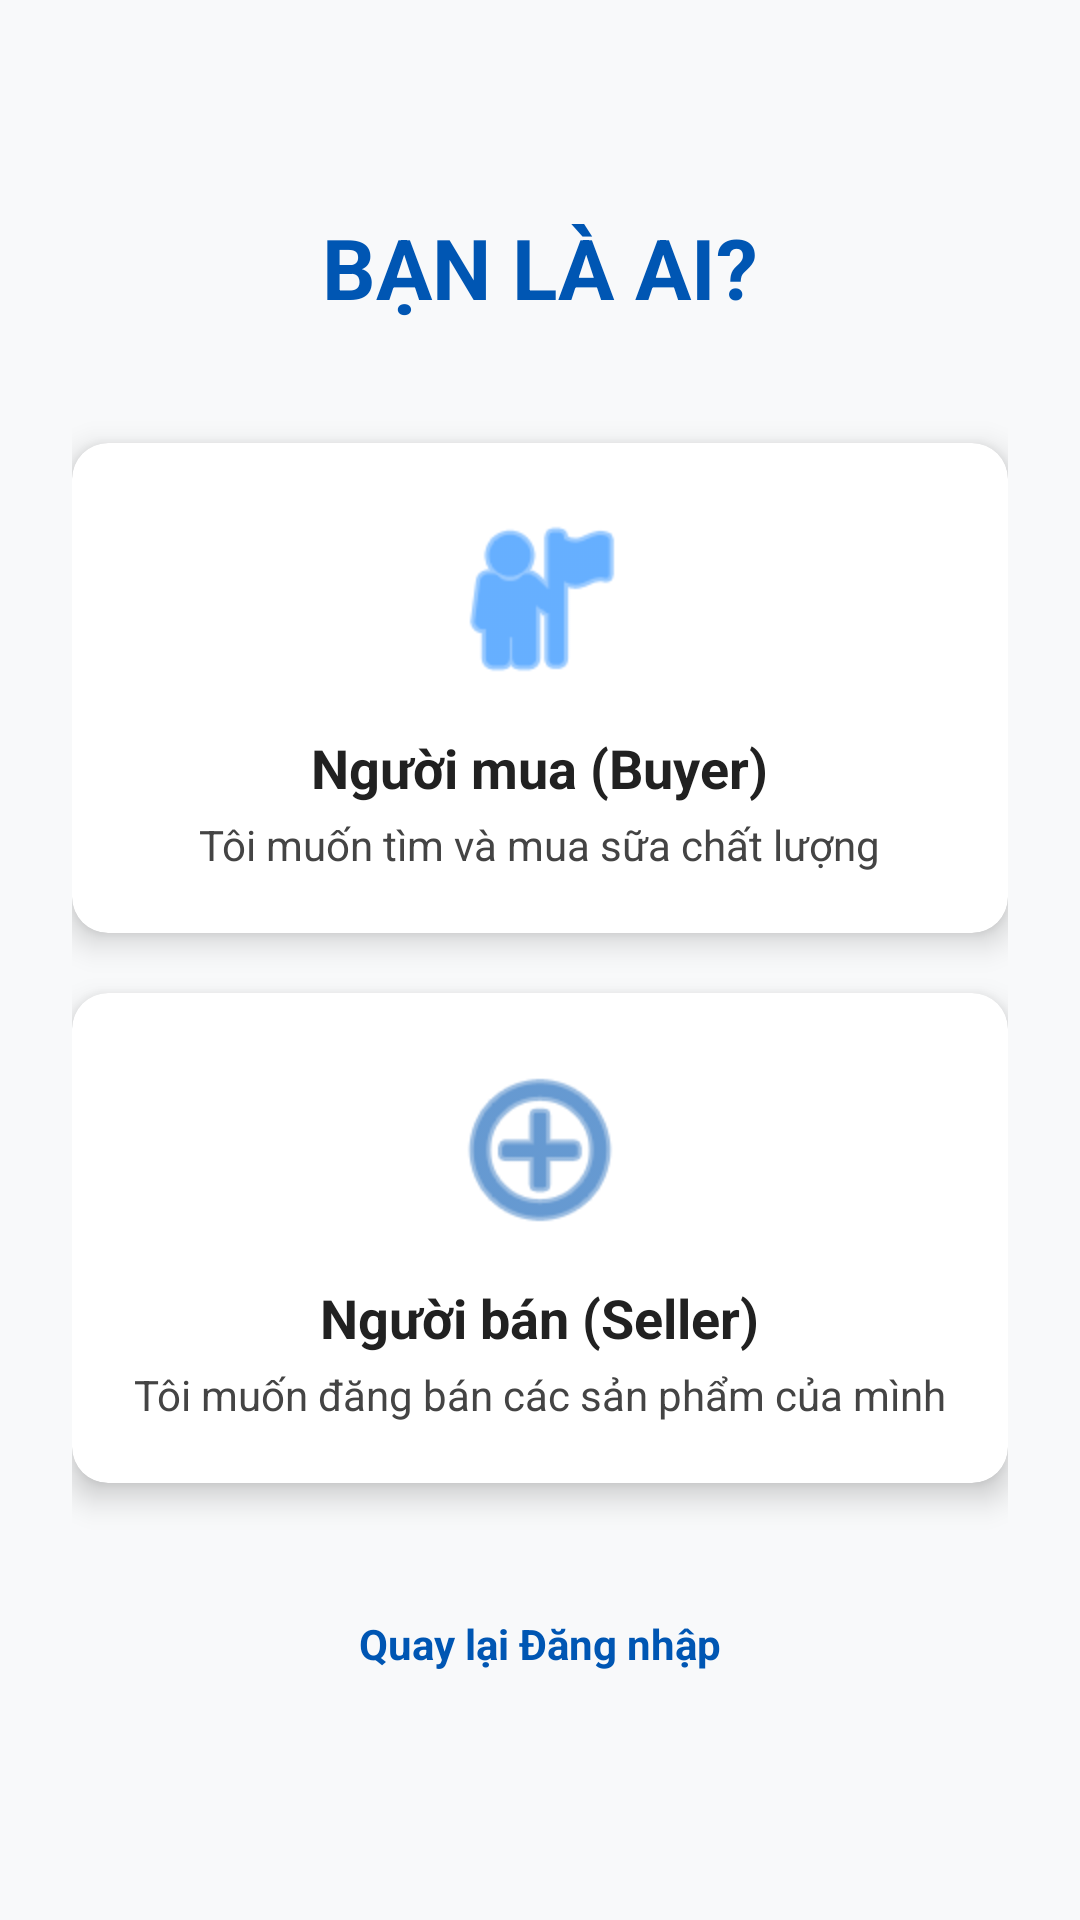

Screen size 1080 x 1920. Icon name, then its center in pixels as point (x, y):
add: point (540, 1150)
myplaces: point (542, 599)
